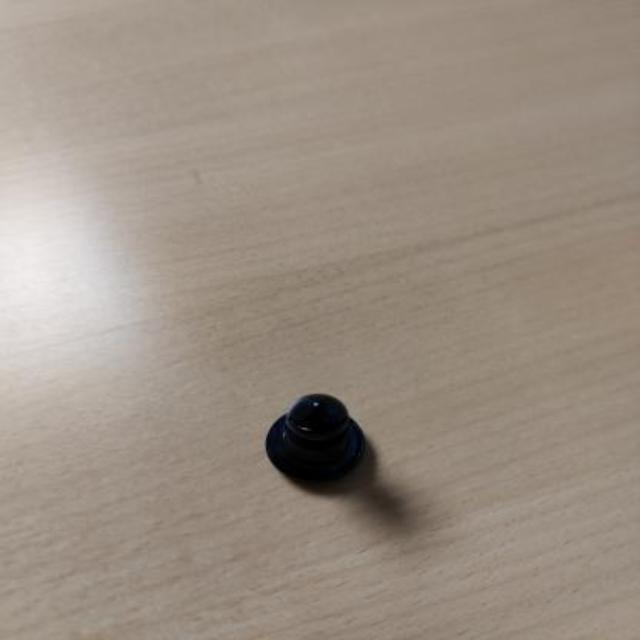black-pawn: (266, 393, 364, 483)
